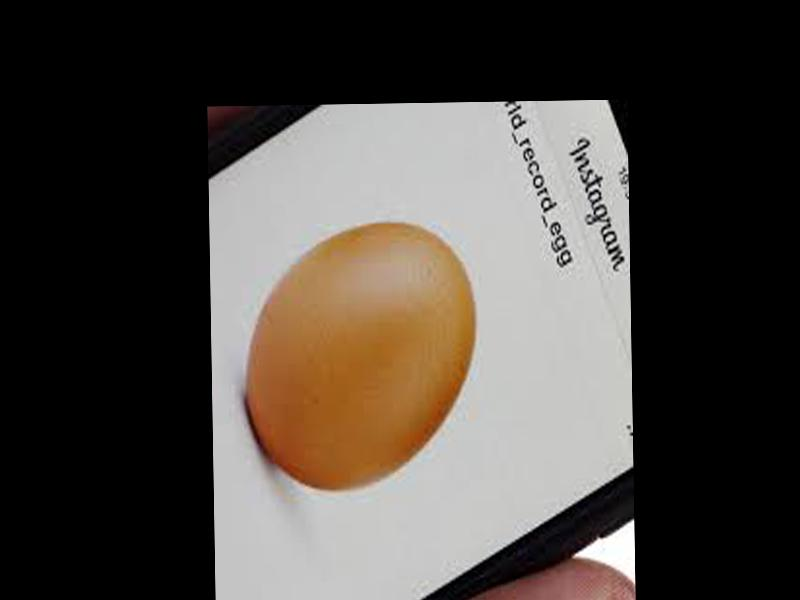Eggs: (244, 221, 478, 492)
